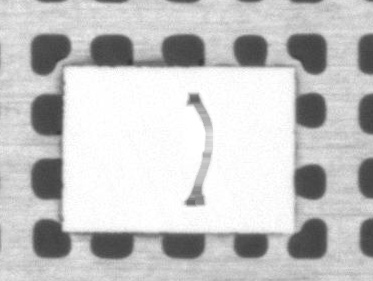DIE_INK: (187, 90, 217, 211)
